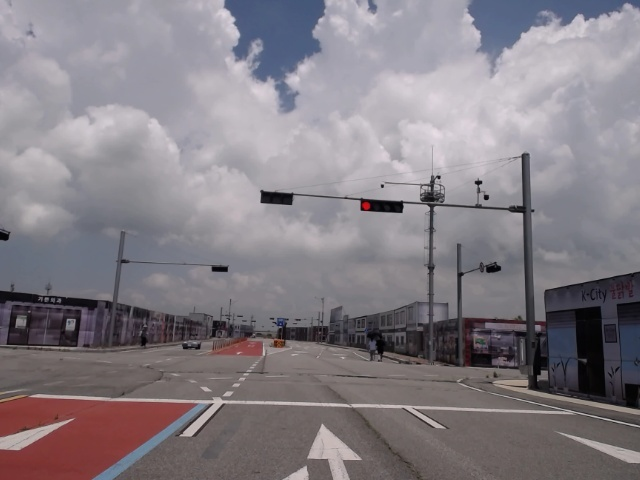red_4: (361, 200, 403, 213)
